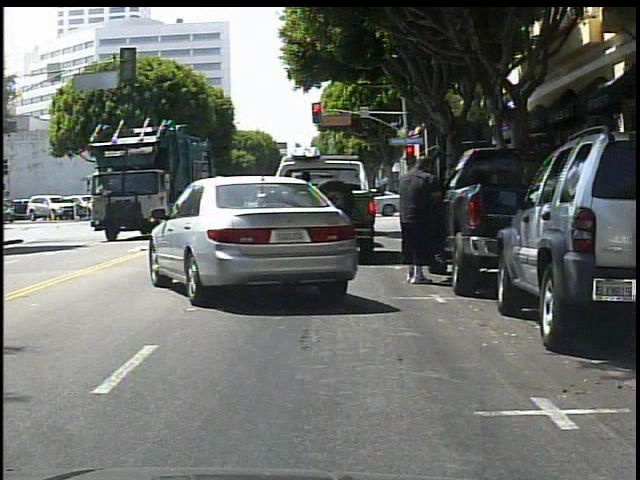person: (395, 152, 447, 291)
